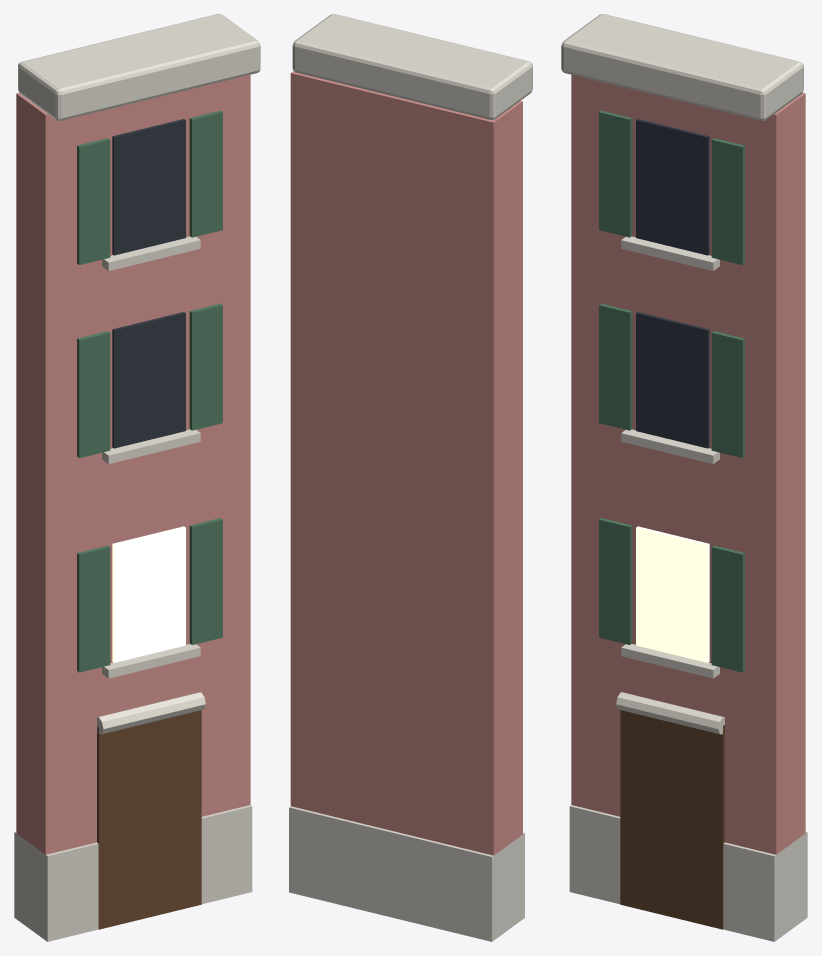
Rendered from DoorRose.glb.
3 views of the same model, side by side, from view 1: azimuth 30°, elevation 25°; view 2: azimuth 150°, elevation 25°; view 3: azimuth 330°, elevation 25° (orthographic).
Parts seen in each view (by area): view 1: DoorRose; view 2: DoorRose; view 3: DoorRose.
Part boxes in pixels (x1,y1,x2,y2): DoorRose: [14, 14, 260, 941]; DoorRose: [289, 14, 532, 941]; DoorRose: [561, 14, 807, 941].
Size of the model in its own units: 2 by 8 by 0.73.
